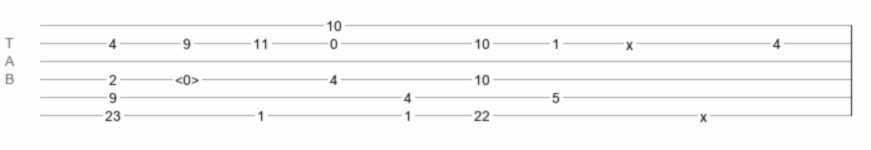0: (330, 36, 338, 46)
1: (257, 108, 265, 118), (404, 108, 412, 118), (552, 36, 560, 46)
10: (326, 18, 342, 28), (474, 72, 490, 82), (474, 36, 490, 46)
11: (253, 36, 269, 46)
2: (109, 72, 117, 82)
22: (474, 108, 490, 118)
23: (105, 108, 121, 118)
4: (109, 36, 117, 46), (330, 72, 338, 82), (404, 90, 412, 100), (773, 36, 781, 46)
5: (552, 90, 560, 100)
9: (109, 90, 117, 100), (183, 36, 191, 46)
harmonic: (175, 72, 199, 82)
x: (626, 37, 633, 45), (700, 109, 707, 117)
